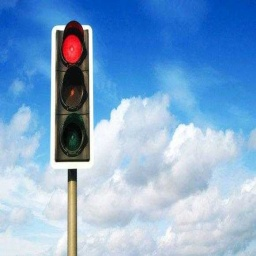traffic light: (51, 19, 93, 168)
